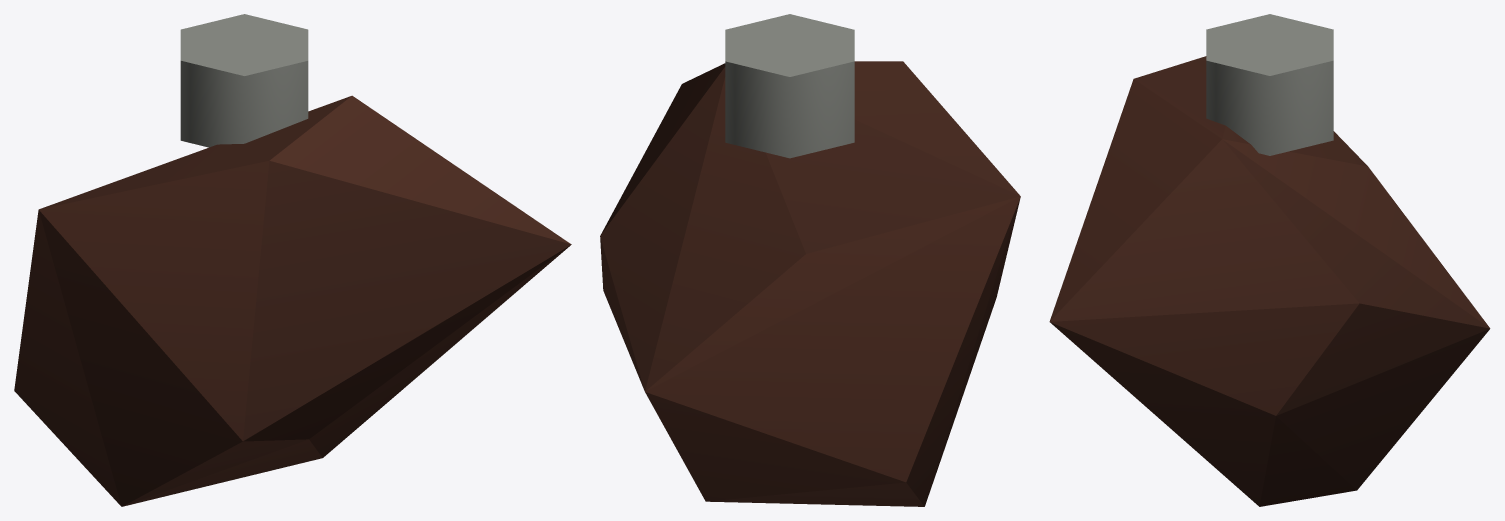
The model's file is cluster-grenade.glb.
3 renders of one model, left to right at view 1: azimuth 30°, elevation 25°; view 2: azimuth 150°, elevation 25°; view 3: azimuth 270°, elevation 25°, orthographic.
Parts seen in each view (by area): view 1: cluster-grenade; view 2: cluster-grenade; view 3: cluster-grenade.
Part boxes in pixels (bbox=[...]): cluster-grenade: bbox=[14, 14, 571, 506]; cluster-grenade: bbox=[600, 14, 1020, 506]; cluster-grenade: bbox=[1049, 14, 1490, 506].
Bounding box in the file's own units: 0.17 × 0.16 × 0.15.
